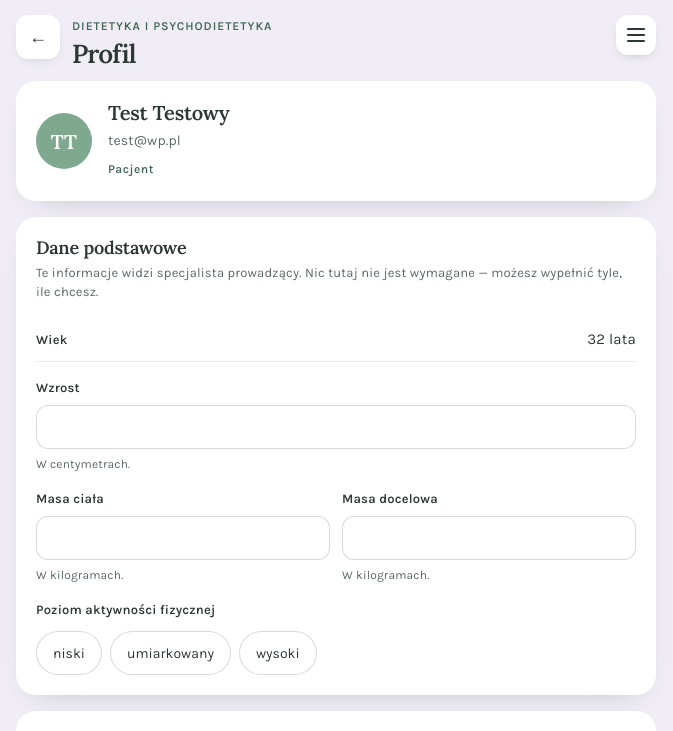
the health fields hold what is stored and nothing else › sends the form as numbers and nulls rather than as typed text
Type "168" into the field labelled "Wzrost".
click(336, 427); type("168")  # box [36,405,636,449]
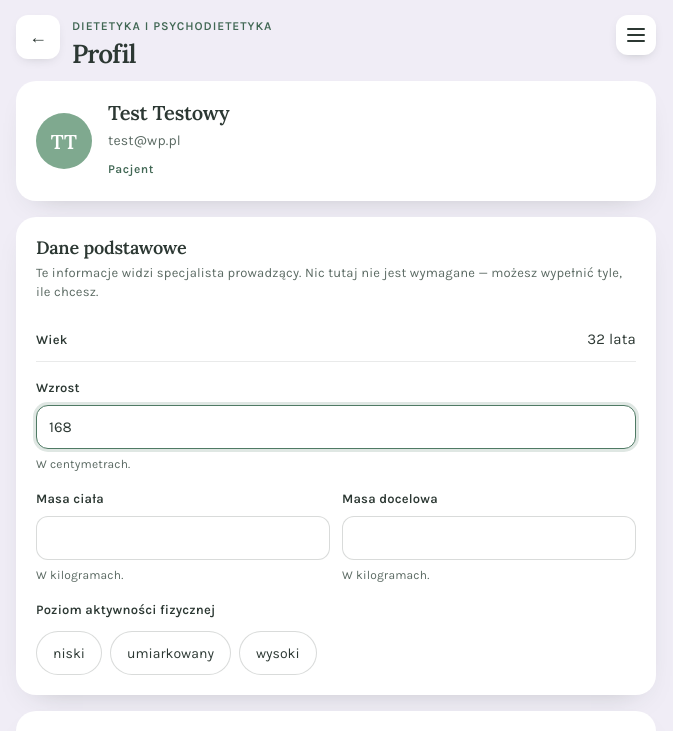
Type "71,5" into the field labelled "Masa ciała".
click(183, 538); type("71,5")  # box [36,516,330,560]
(page scrolled)
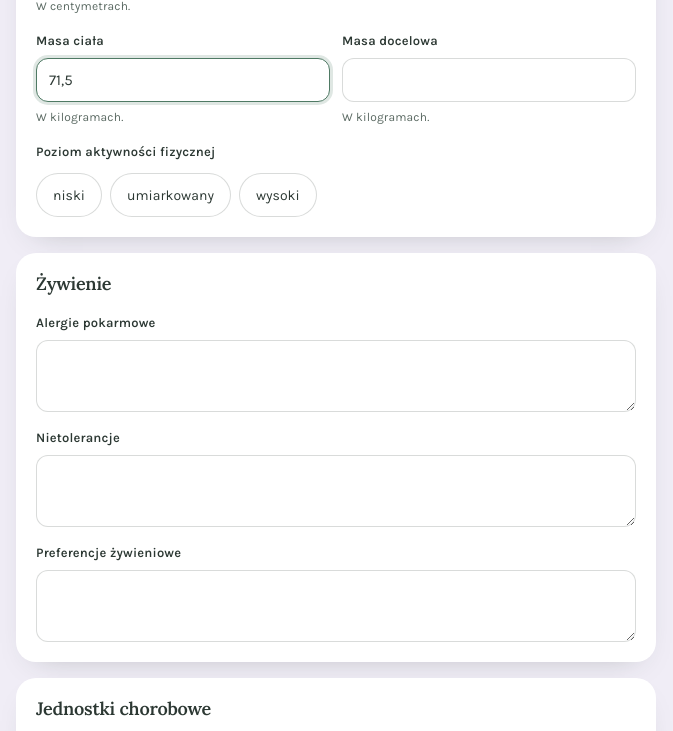
Type "  orzechy  " into the text box labelled "Alergie pokarmowe".
click(336, 376); type("  orzechy  ")  # box [36,340,636,412]
(page scrolled)
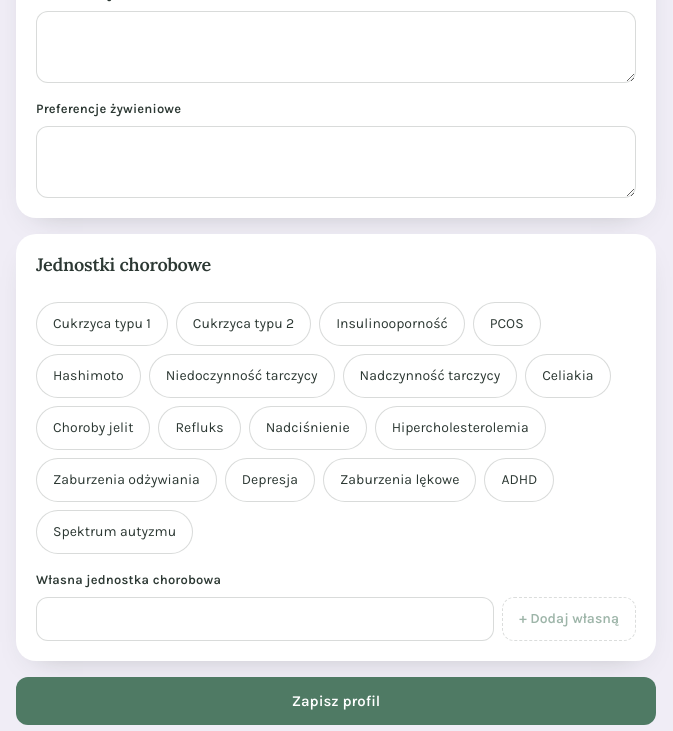
Click the button "Hashimoto".
click(88, 376)  # box [36,354,141,398]
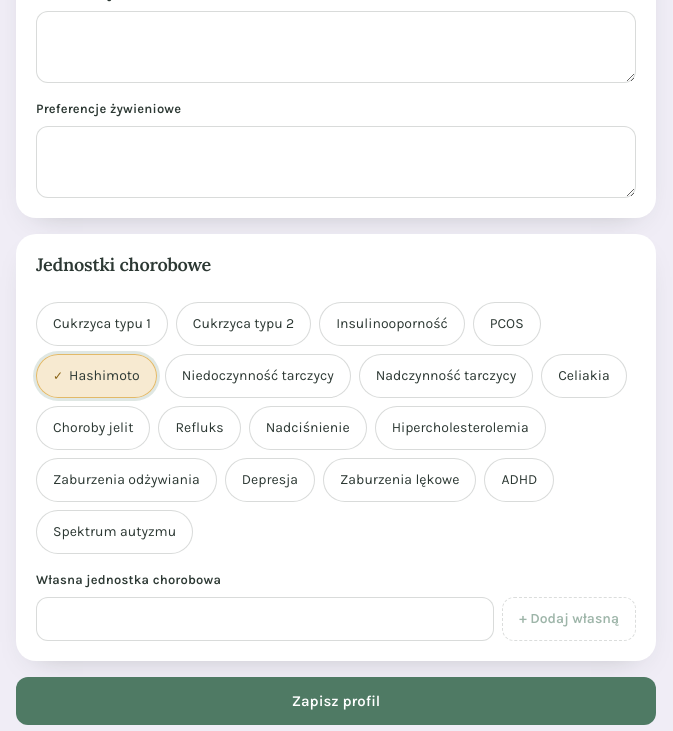
Click the button "Zapisz profil".
click(336, 701)  # box [16,677,656,725]
(page scrolled)
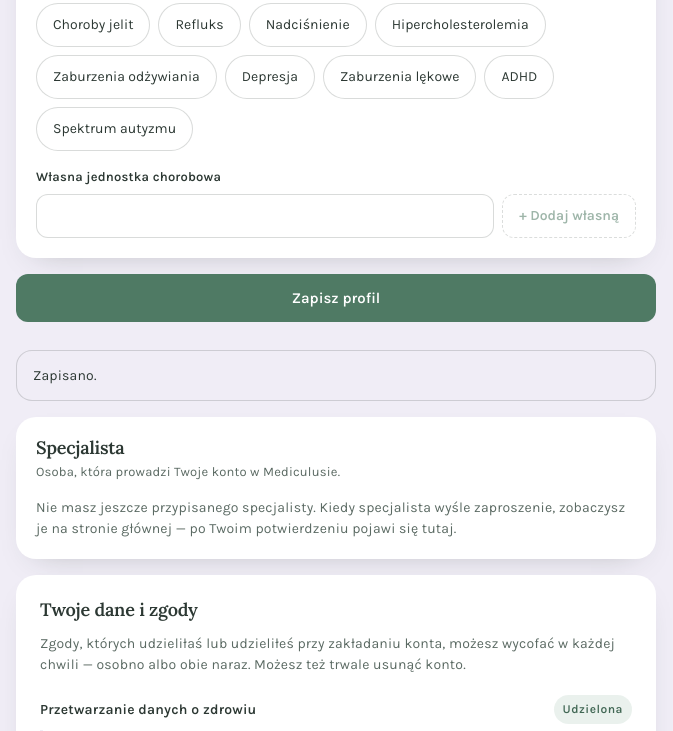
expect the message "Zapisano." is shown: met, box [16,350,656,401]
